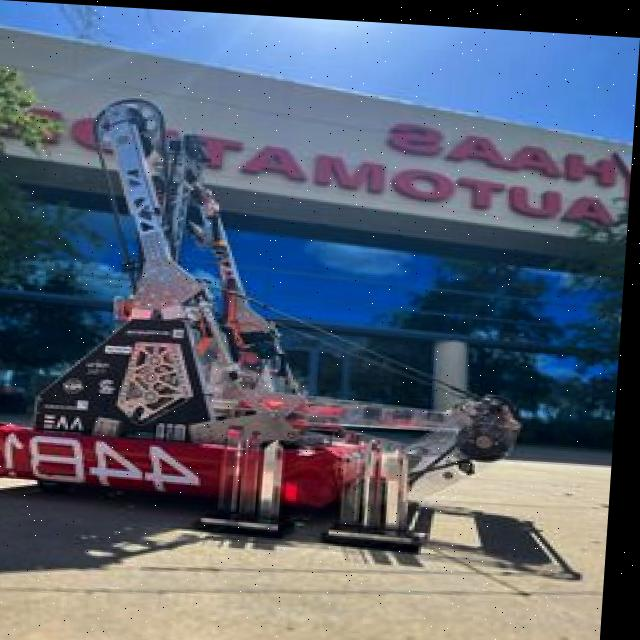robot: (0, 83, 548, 534)
